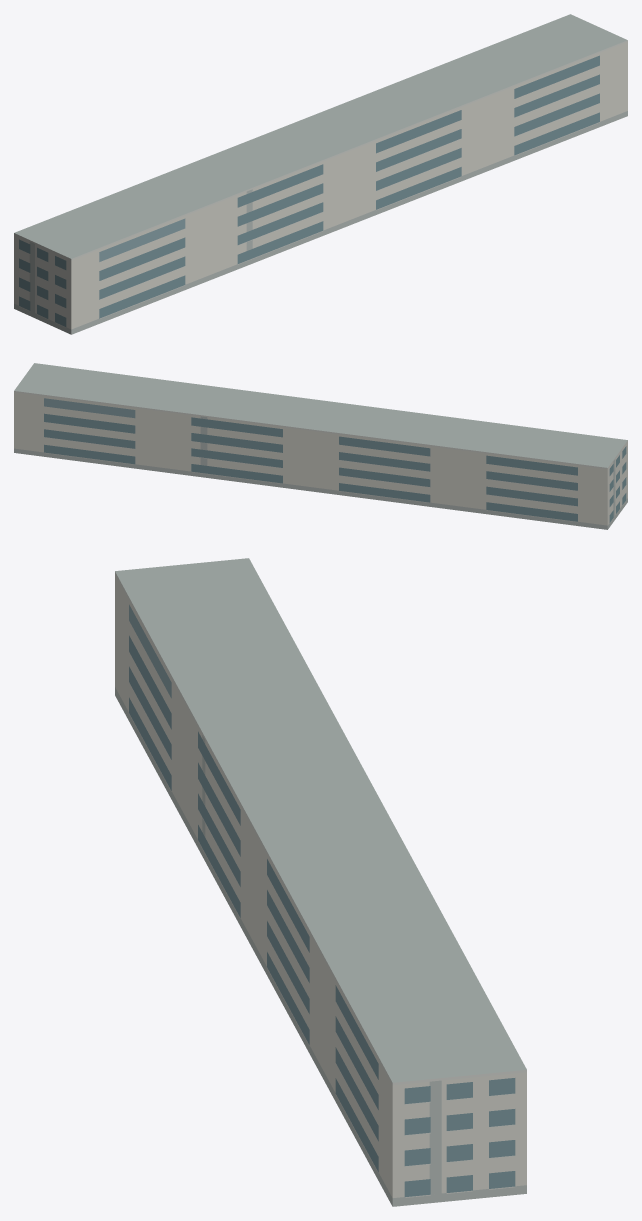
The model's file is residential-269076dd-0a53-4791-9846-c2f90fc54c96.glb.
3 renders of one model, top to bottom at view 1: azimuth 30°, elevation 25°; view 2: azimuth 150°, elevation 25°; view 3: azimuth 270°, elevation 25°, orthographic. The views are drawn at different scales.
Parts seen in each view (by area): view 1: residential-269076dd-0a53-4791-9846-c2f90fc54c96.tmp; view 2: residential-269076dd-0a53-4791-9846-c2f90fc54c96.tmp; view 3: residential-269076dd-0a53-4791-9846-c2f90fc54c96.tmp.
Part boxes in pixels (box(x1,y1,x2,y2)): residential-269076dd-0a53-4791-9846-c2f90fc54c96.tmp: box(14, 14, 627, 334); residential-269076dd-0a53-4791-9846-c2f90fc54c96.tmp: box(14, 363, 627, 529); residential-269076dd-0a53-4791-9846-c2f90fc54c96.tmp: box(115, 558, 526, 1206).
Size of the model in its own units: 111 by 12.2 by 36.75.
